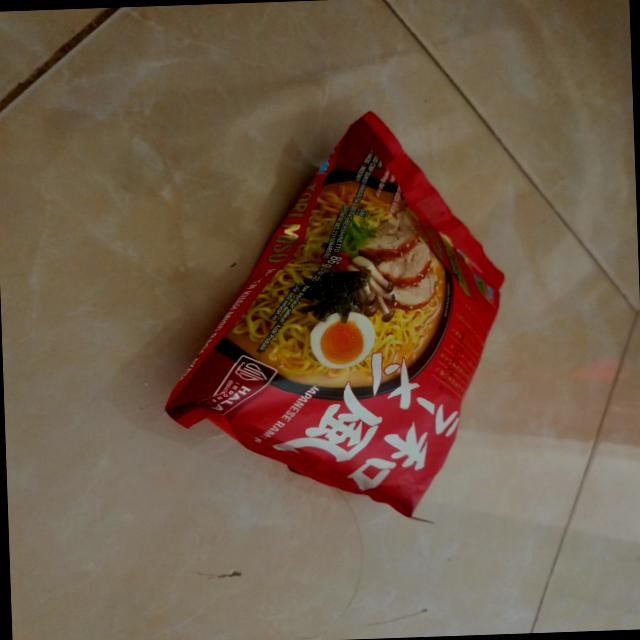indomie-tori-miso: (152, 105, 514, 533)
